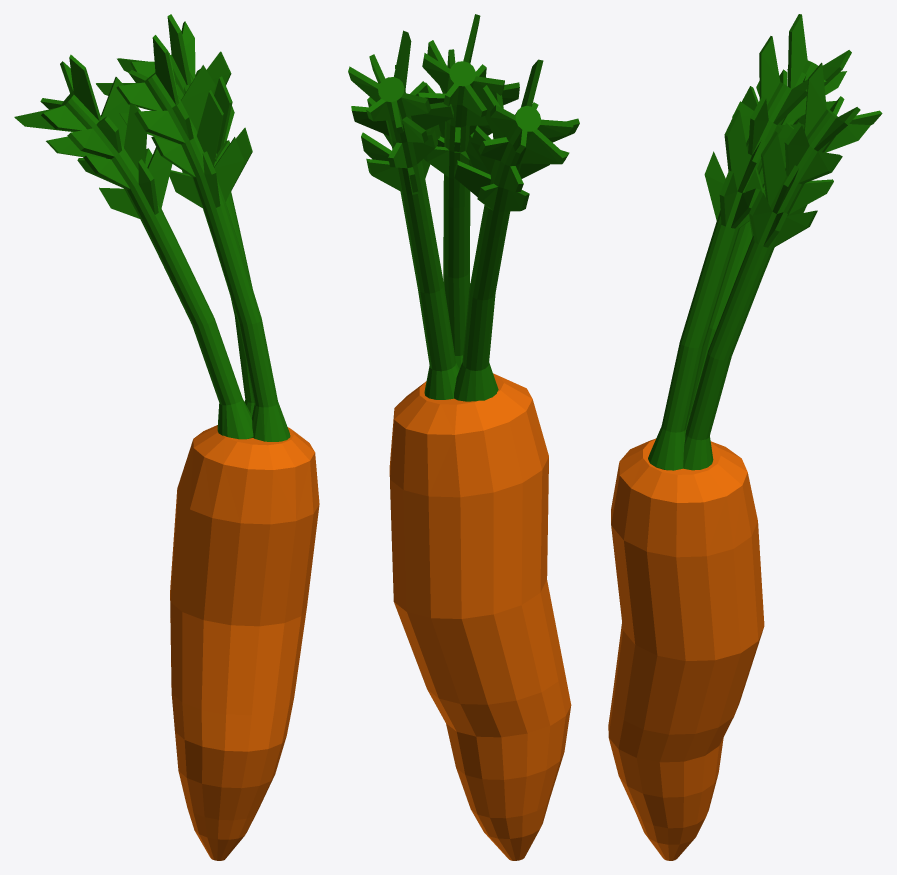
Rendered from Carrot_v.1.5.fbx.
3 views of the same model, side by side, from view 1: azimuth 30°, elevation 25°; view 2: azimuth 150°, elevation 25°; view 3: azimuth 270°, elevation 25° (orthographic). The views are drawn at different scales.
Parts seen in each view (by area): view 1: Cylinder.003; view 2: Cylinder.003; view 3: Cylinder.003.
Boxes of the visible parts, x1=… form: Cylinder.003: x1=14, y1=14, x2=319, y2=860; Cylinder.003: x1=348, y1=14, x2=579, y2=860; Cylinder.003: x1=608, y1=14, x2=882, y2=860.
Size of the model in its own units: 150 by 509 by 155.
